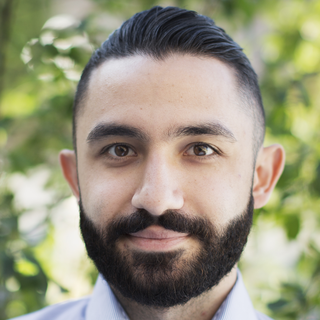eye: (177, 139, 226, 164), (95, 139, 143, 164)
